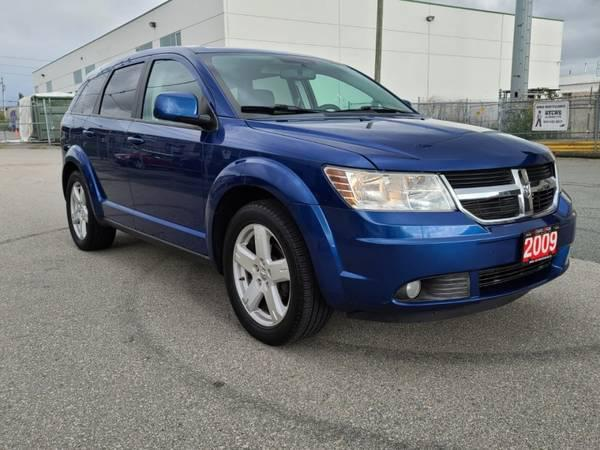Front_Bumper: (288, 188, 579, 317)
Front_Fender: (205, 114, 377, 255)
Front_Right_Door: (132, 119, 212, 254)
Front_Right_Window: (132, 59, 215, 128)
Front_Windshield: (199, 54, 421, 119)
Grille: (443, 159, 561, 222)
Hood: (245, 113, 552, 172)
Rear_Fender: (60, 72, 109, 214)
Rear_Right_Door: (88, 114, 142, 229)
Rear_Right_Window: (93, 63, 146, 121)
Right_Headlight: (325, 166, 459, 215)
Roof: (70, 42, 329, 114)
Wheel: (221, 204, 328, 343), (64, 174, 114, 251)
